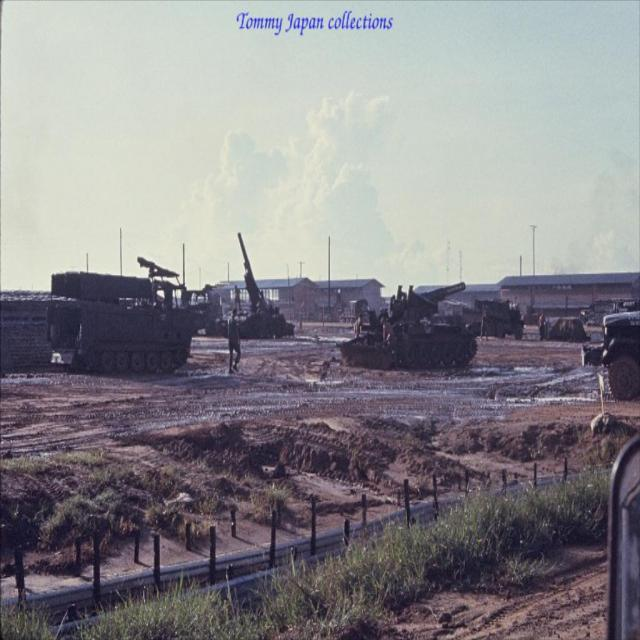tank: (334, 280, 484, 368), (228, 231, 294, 340)
